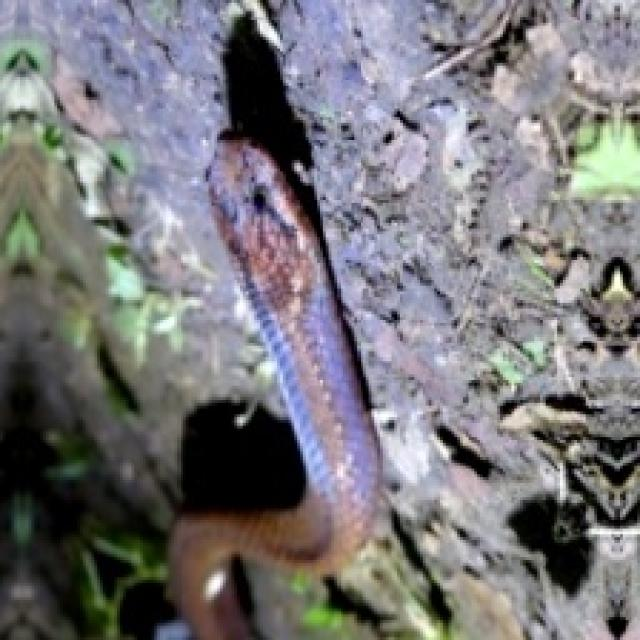reinhardts lined snake: (171, 134, 380, 637)
